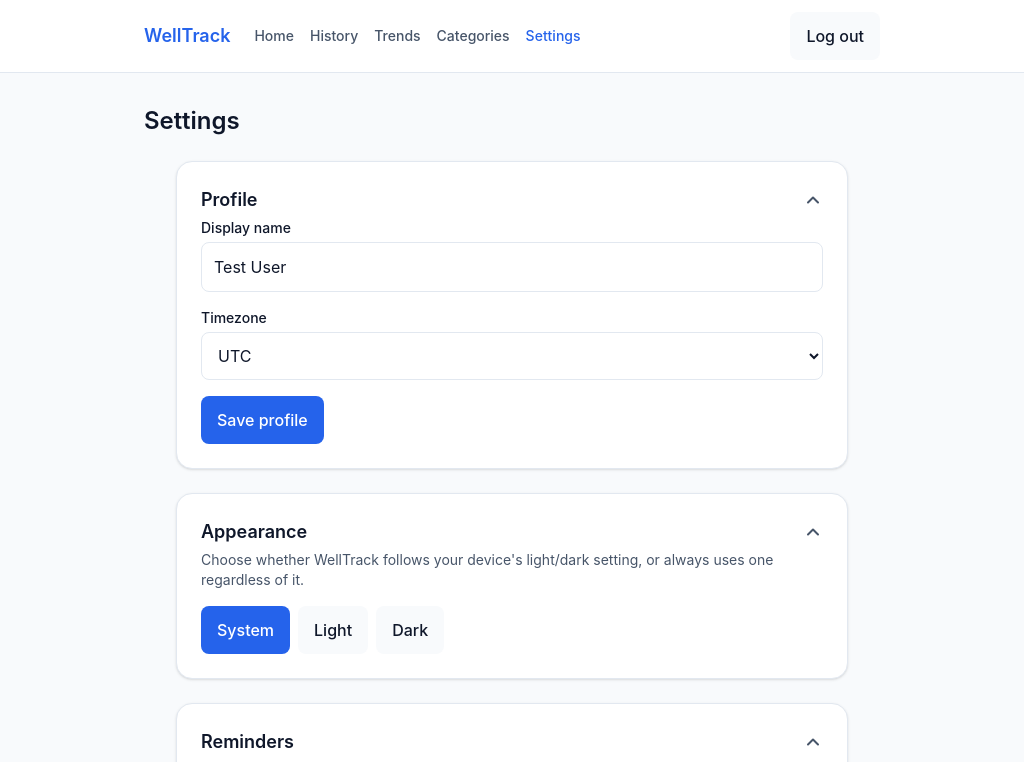
Test: SettingsPage — profile › surfaces a validation error from the server without crashing the form
Expected: the field labelled "Display name" is shown, [201,242,823,292]
What coordinates should you click on to do the following:
click the button "Save profile"
I would click on:
 (262, 420)
Its box is [201,396,324,444].
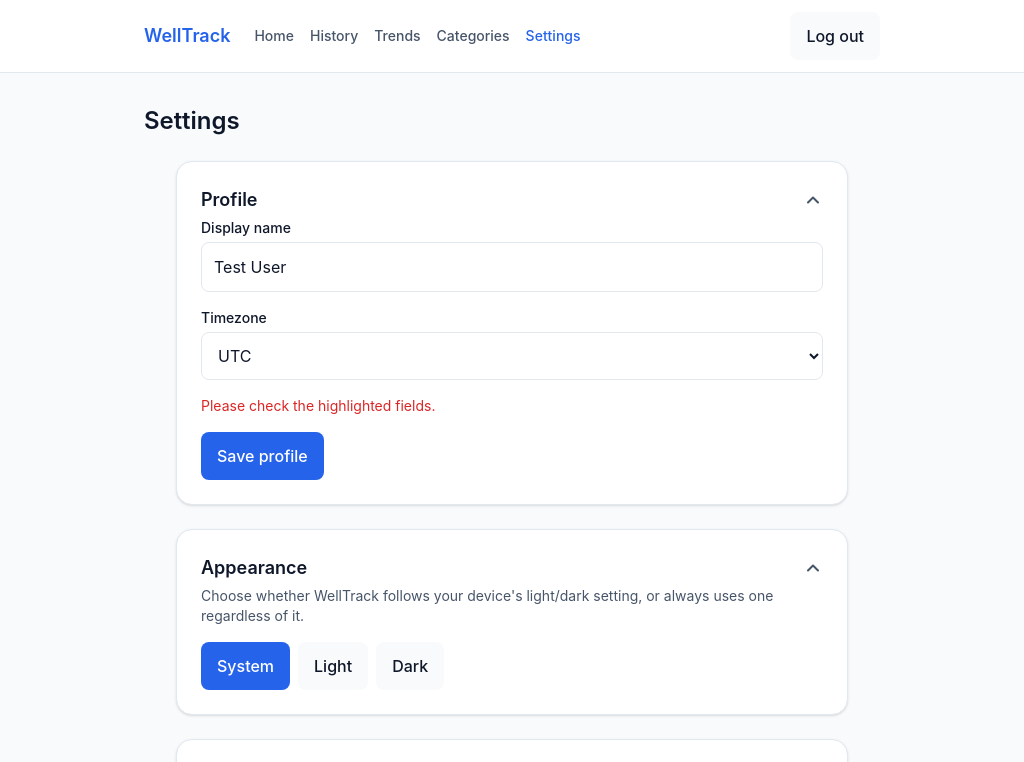
Expected: the text "Please check the highlighted fields." is shown, [201,397,435,414]
